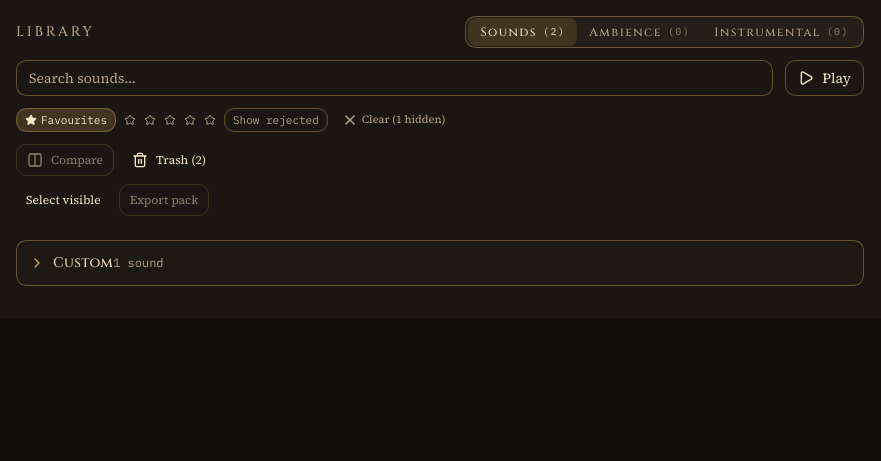
Scenario: library triage › shows only favourites when that filter is on
This screenshot has width=881, height=461.
Click the button "Custom 1 sound".
click(96, 263)  # box [17, 241, 176, 285]
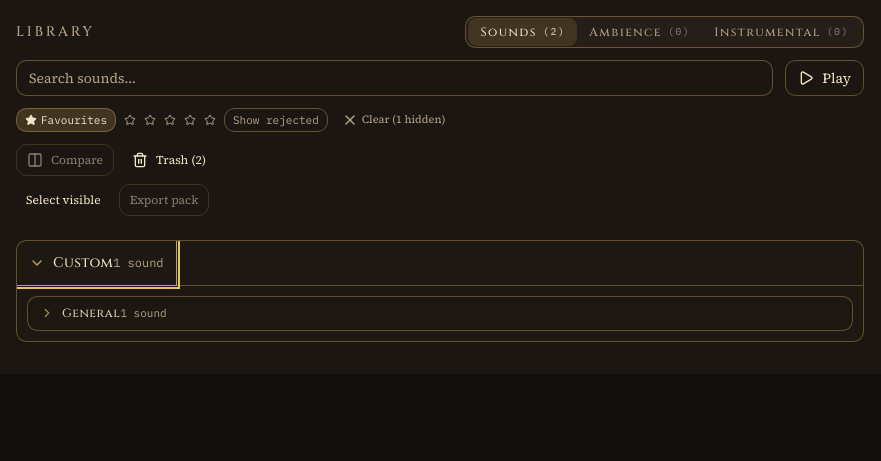
Click the button "General 1 sound".
click(103, 313)  # box [28, 297, 179, 330]
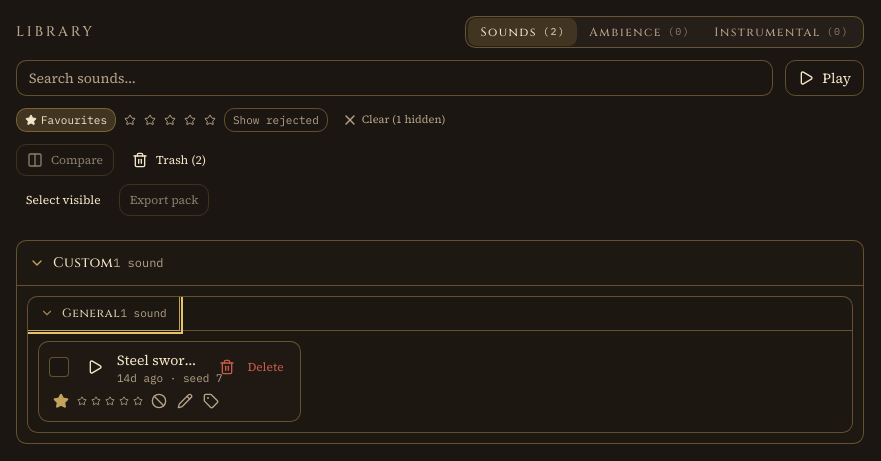
Expected: the text "Steel sword swing" is shown, [117, 350, 204, 370]
